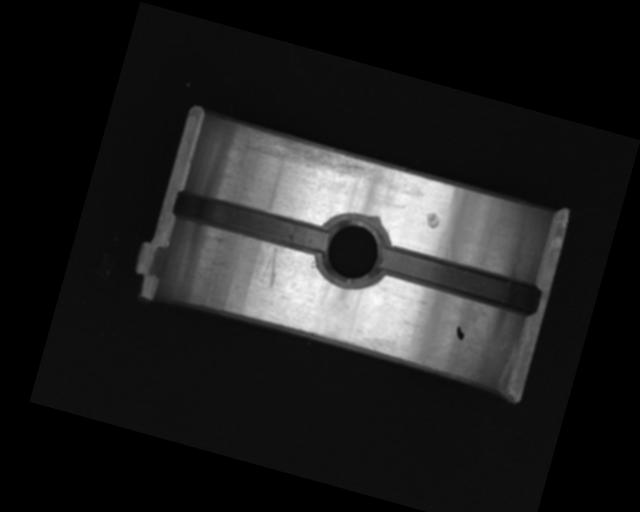blot: (453, 325, 467, 341)
bruise: (423, 211, 443, 231)
gap: (373, 241, 543, 317), (170, 186, 328, 257)
hole: (308, 206, 394, 296)
nick: (257, 242, 286, 291)
scratch: (236, 122, 386, 188)
